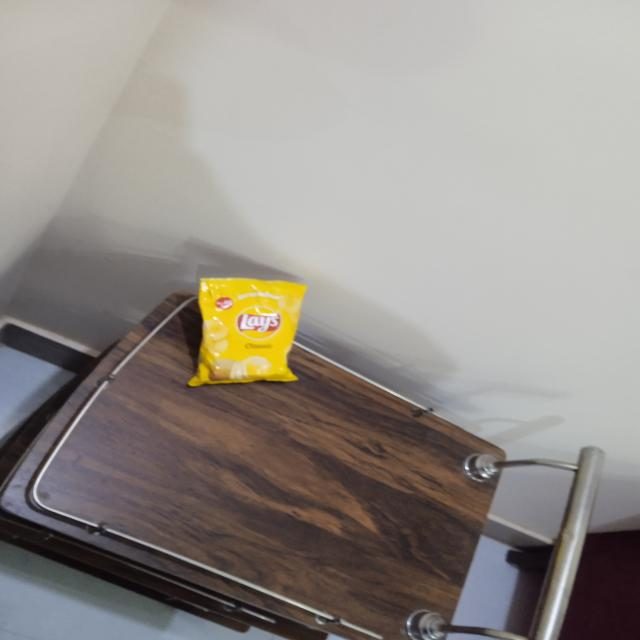Plastic: (187, 272, 314, 390)
